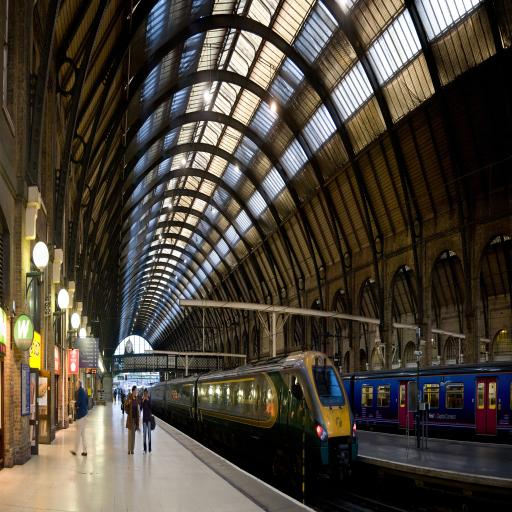platform_edge: (160, 436, 336, 512)
